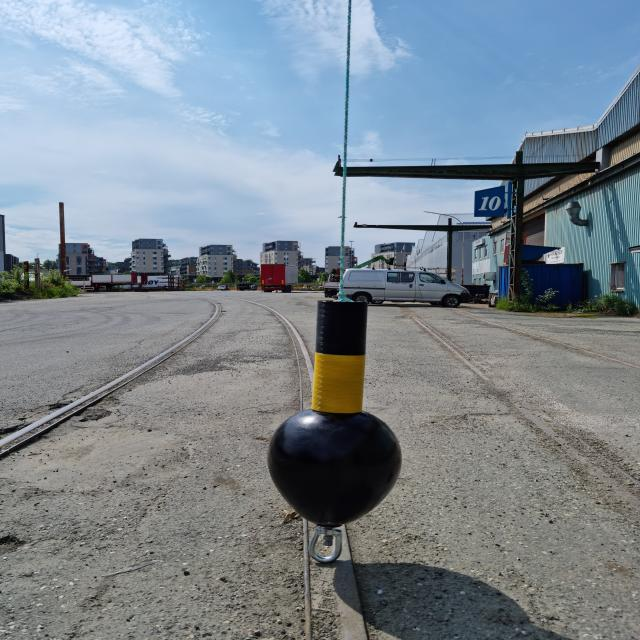east: (268, 303, 402, 524)
